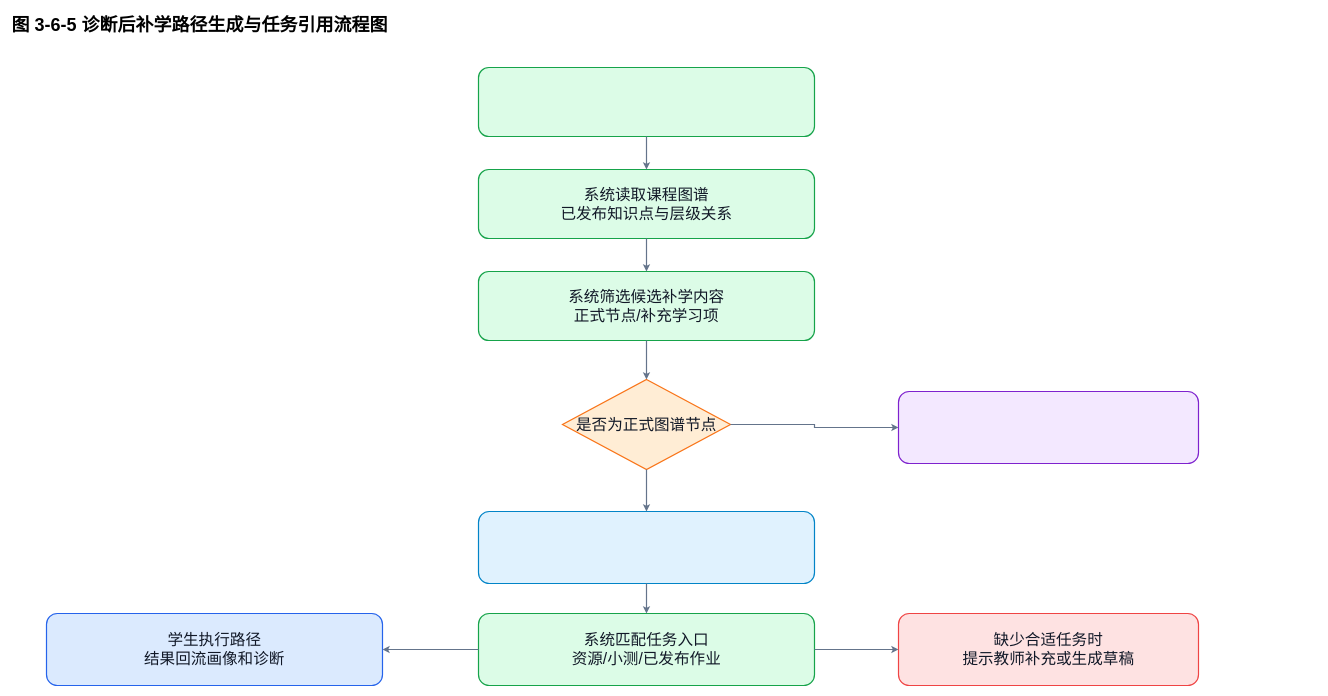
The diagram is 1328 pixels wide and 696 high, and some of its shapes have lost their labels. Here are the shapes that lost their labels. From the top down, the box of each, then its label:
(478, 67, 815, 137): 路径模块读取诊断结论 薄弱点/原因/依据等级
(898, 391, 1199, 464): 外部补充学习项 只作辅助学习
(478, 511, 815, 584): 正式路径节点 按规则进入路径版本
